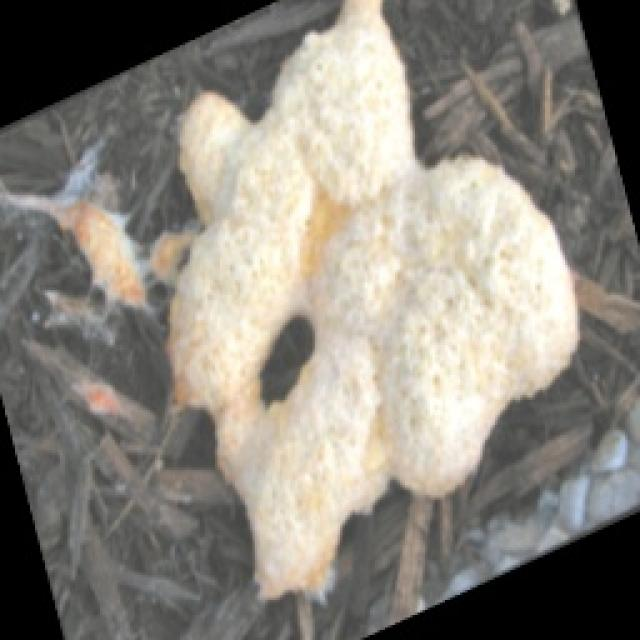Dog_vomit_slime_mold: (84, 50, 640, 599)
